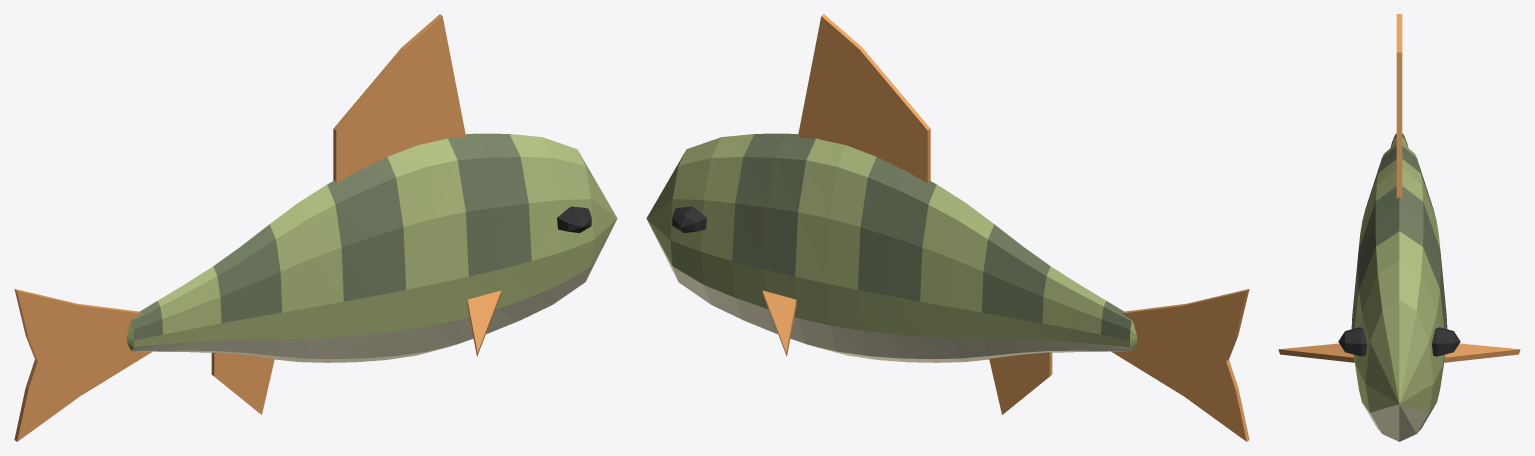
Rendered from fish_perch.fbx.
The picture shows the model from 3 angles, left to right: view 1: azimuth 30°, elevation 25°; view 2: azimuth 150°, elevation 25°; view 3: azimuth 270°, elevation 25°; orthographic projection. The views are drawn at different scales.
Visible parts, largest first — view 1: fish_perch; view 2: fish_perch; view 3: fish_perch.
Boxes of the visible parts, x1=… form: fish_perch: x1=14, y1=14, x2=617, y2=441; fish_perch: x1=646, y1=14, x2=1249, y2=441; fish_perch: x1=1278, y1=14, x2=1520, y2=441.
Size of the model in its own units: 25 by 14.09 by 8.24.
